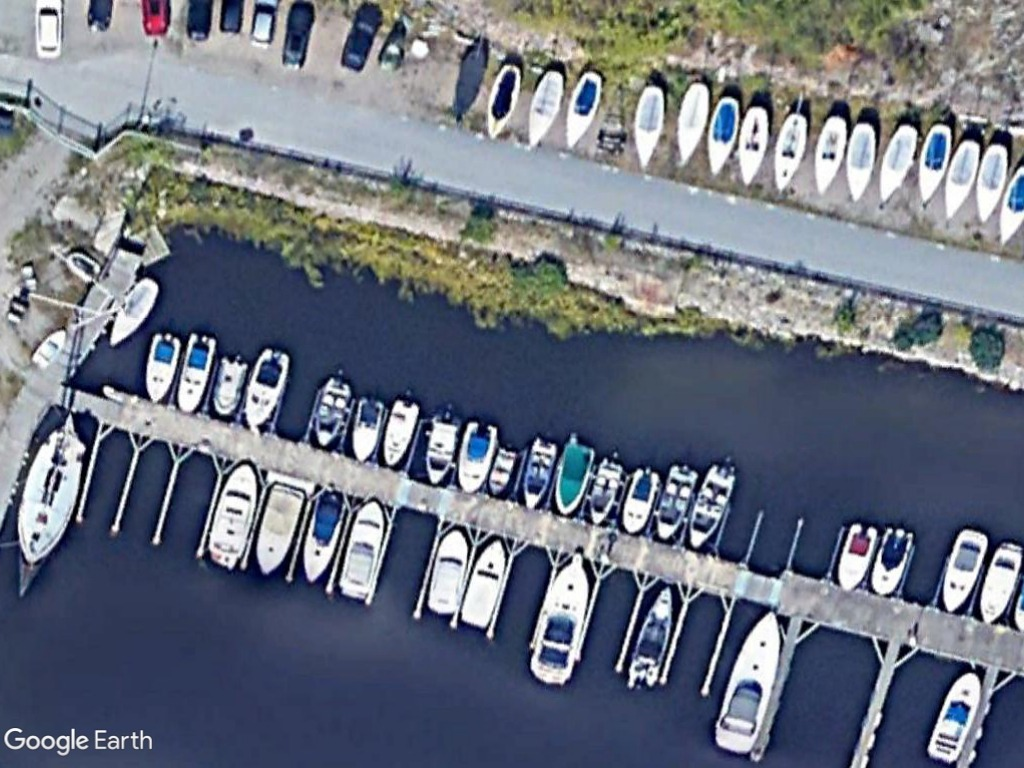boat: (10, 406, 84, 573), (709, 606, 788, 756), (522, 550, 595, 692), (616, 581, 679, 696), (292, 477, 354, 590), (203, 455, 261, 573), (923, 664, 988, 768), (332, 492, 390, 606), (679, 457, 747, 553), (250, 475, 308, 576), (239, 339, 298, 435), (457, 533, 513, 633), (98, 267, 163, 352), (933, 522, 992, 613), (421, 518, 473, 621), (869, 117, 923, 213), (648, 455, 704, 543), (451, 409, 507, 497), (970, 534, 1024, 624), (936, 131, 986, 226), (863, 518, 920, 601), (671, 73, 719, 170), (699, 88, 747, 184), (169, 325, 219, 416), (840, 114, 887, 210), (477, 55, 526, 147), (731, 97, 778, 192), (913, 118, 960, 213), (767, 108, 816, 197), (563, 60, 609, 153), (628, 77, 671, 176), (547, 434, 600, 514), (523, 63, 569, 154), (513, 429, 563, 510), (810, 107, 851, 204), (612, 461, 664, 537), (969, 134, 1009, 232), (828, 517, 879, 593), (311, 368, 358, 448), (378, 391, 423, 474), (140, 326, 186, 406), (414, 409, 463, 484), (580, 452, 628, 528), (345, 389, 391, 465), (207, 346, 250, 416)
car: (335, 2, 385, 75)
